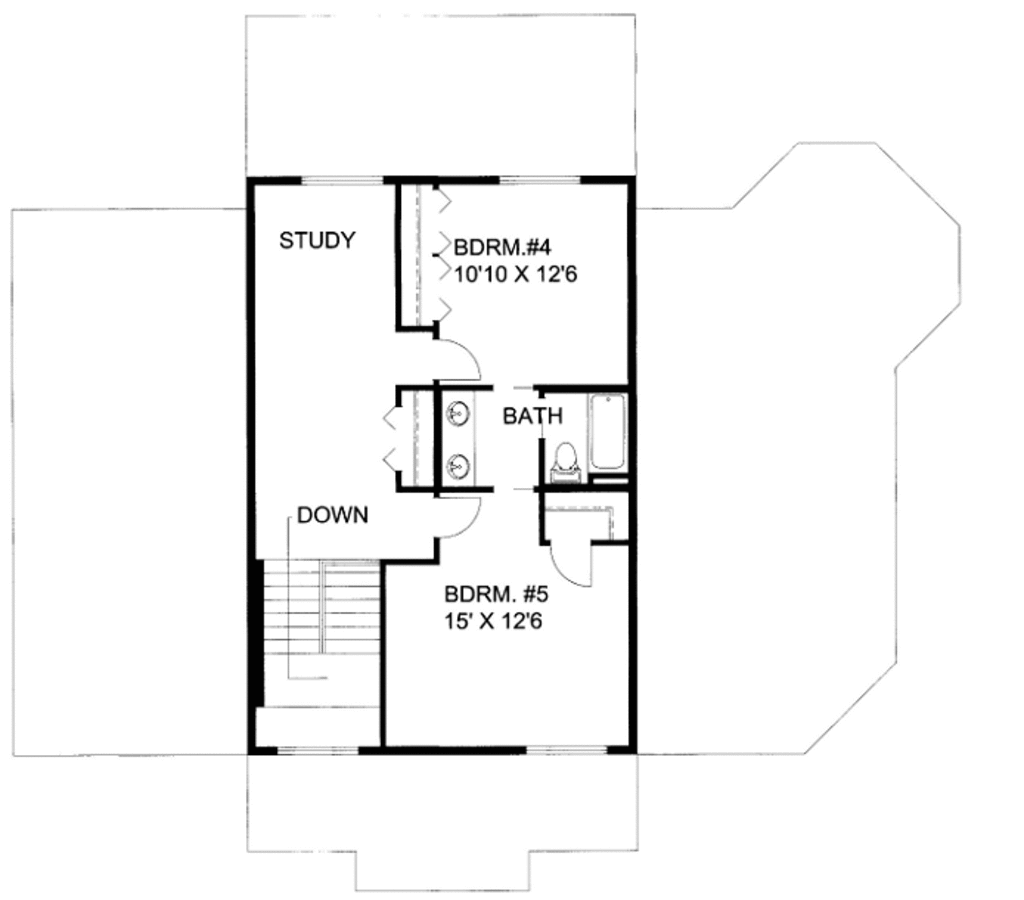door: (541, 531, 607, 600), (429, 492, 493, 542), (430, 331, 484, 385)
large_sink: (543, 438, 580, 488)
small_sink: (440, 390, 480, 488)
stairs: (247, 535, 382, 743)
tub: (587, 385, 637, 481)
window: (268, 736, 361, 765), (286, 167, 393, 192), (521, 739, 618, 761), (497, 164, 582, 188)
